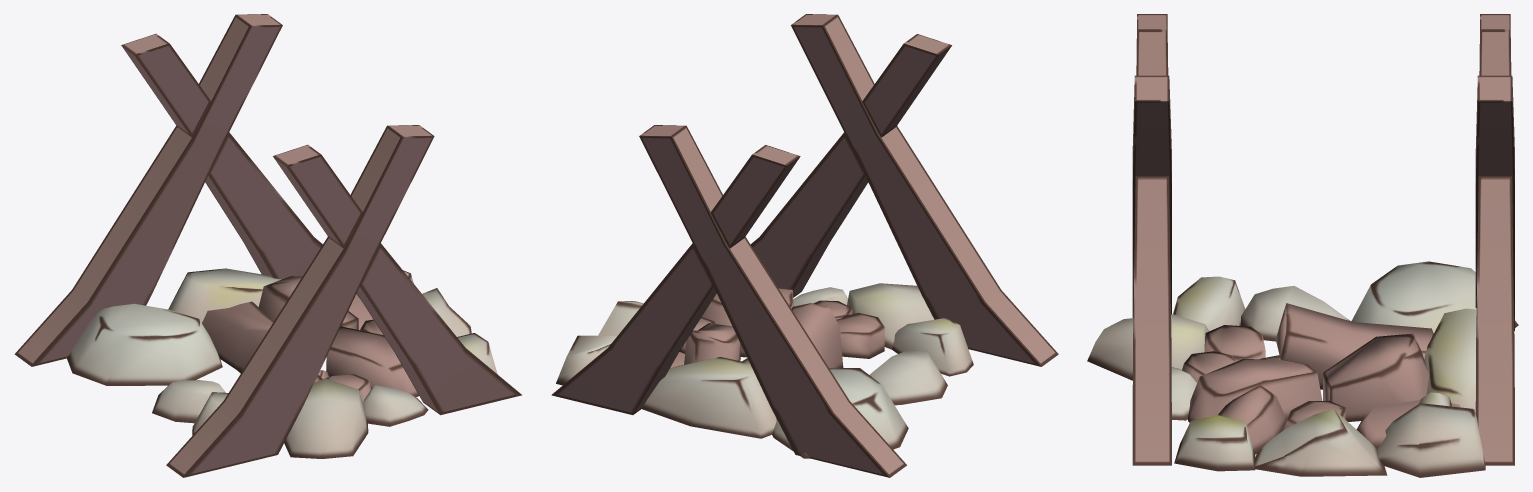
Rendered from Grill.fbx.
3 views of the same model, side by side, from view 1: azimuth 30°, elevation 25°; view 2: azimuth 150°, elevation 25°; view 3: azimuth 270°, elevation 25° (orthographic). The views are drawn at different scales.
Parts seen in each view (by area): view 1: polySurface23; view 2: polySurface23; view 3: polySurface23.
Boxes of the visible parts, left/top/right/bottom form: polySurface23: left=14, top=14, right=521, bottom=477; polySurface23: left=551, top=14, right=1058, bottom=477; polySurface23: left=1087, top=14, right=1518, bottom=477.
Bounding box in the file's own units: 44.33 × 33.76 × 40.57.
